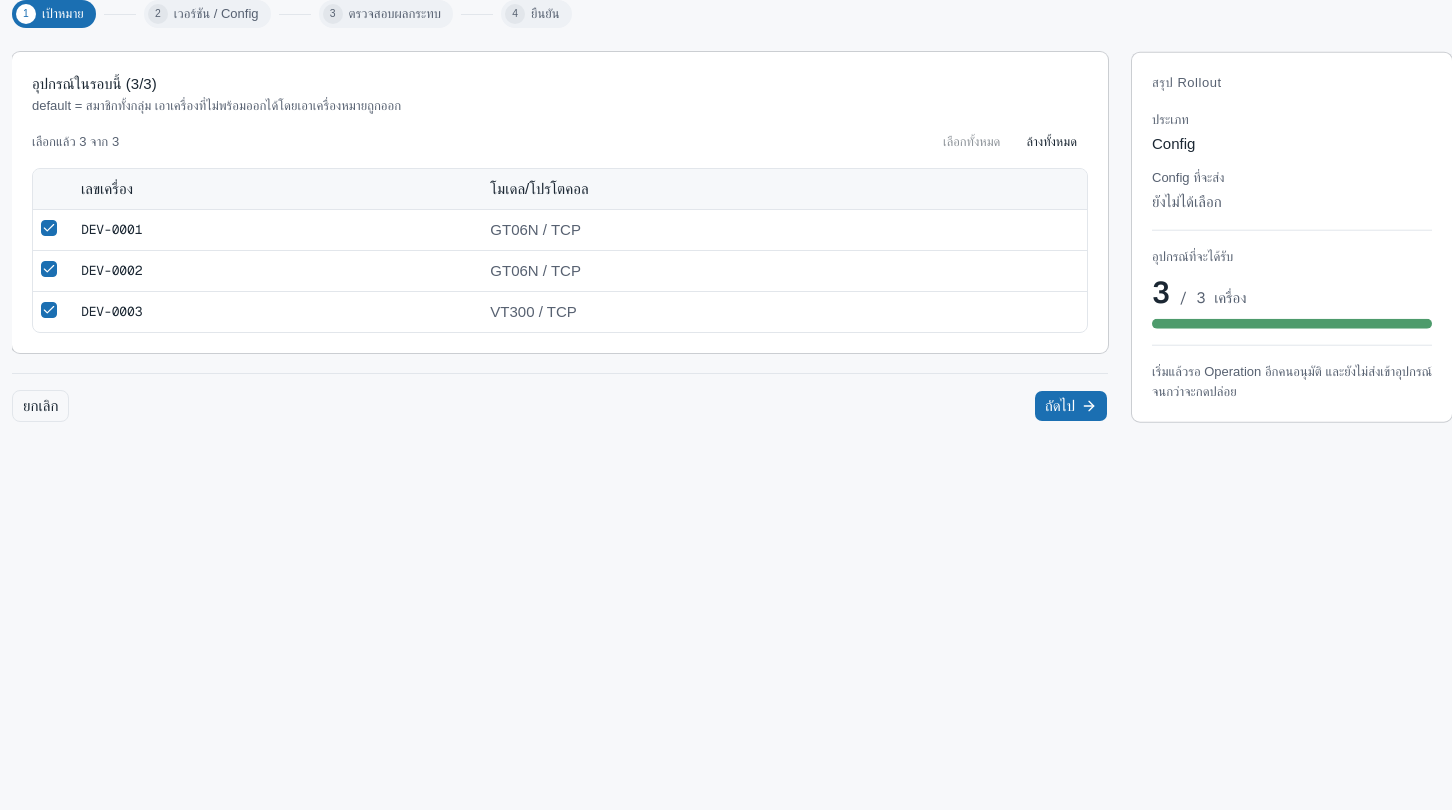
CampaignRolloutCreateForm: wizard 4 ขั้น › ขั้นตรวจสอบ: เครื่องคนละโมเดลถูกแสดงพร้อมเหตุผล และกดถัดไปไม่ได้
Click the button "ถัดไป" at coordinates (1071, 406), box [1034, 390, 1108, 422]
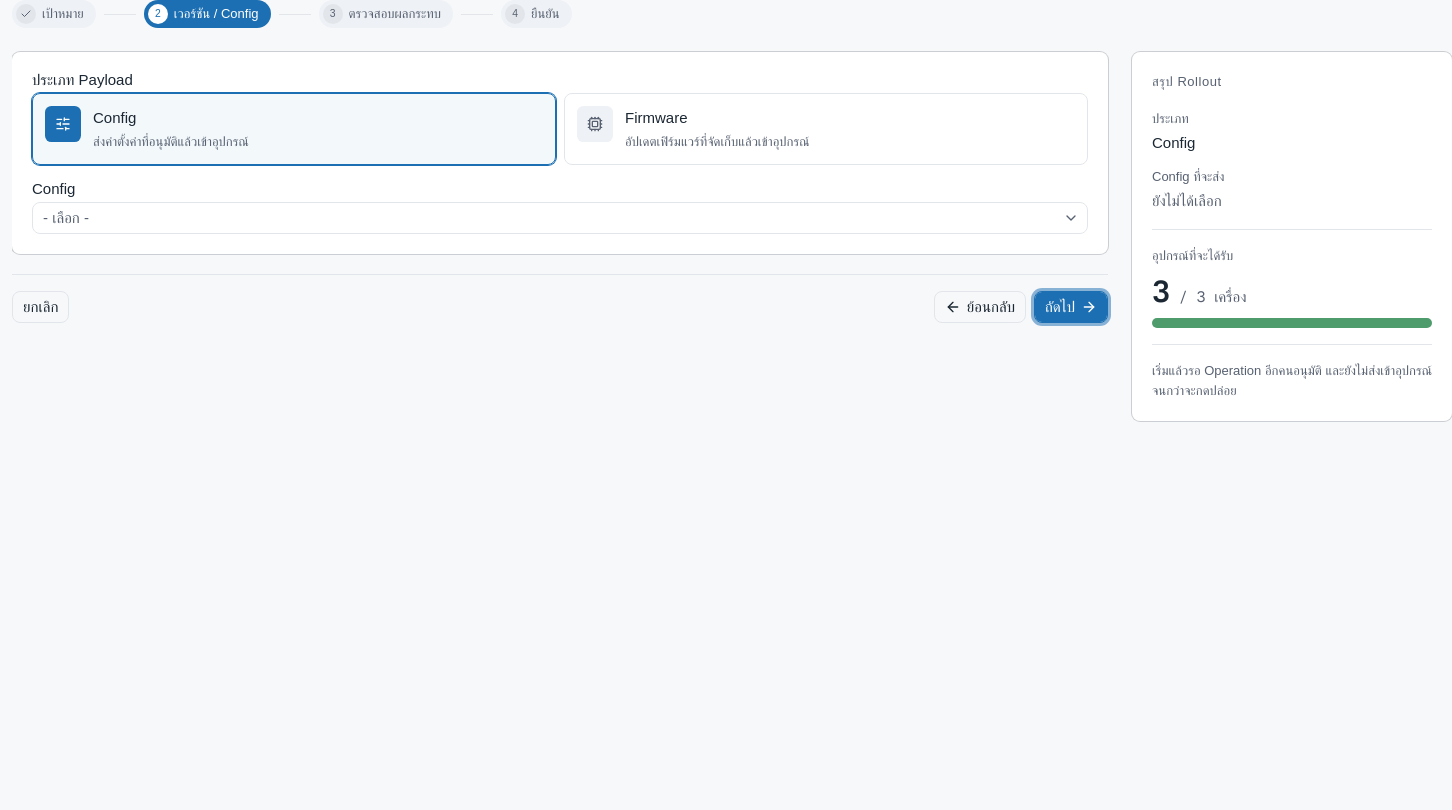
Click the dropdown named "Config" at coordinates (66, 218), box [32, 202, 1088, 234]
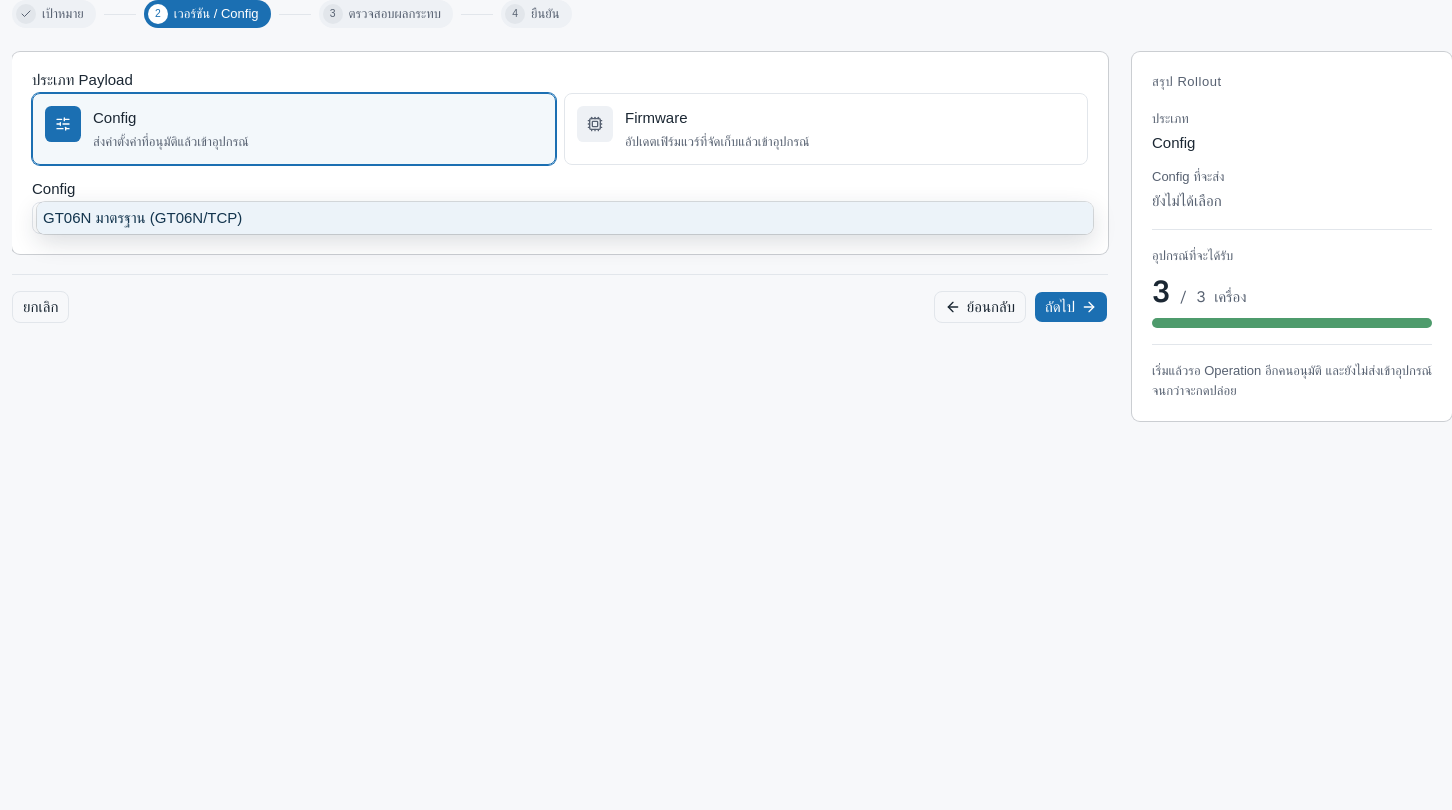
Click the option "GT06N มาตรฐาน (GT06N/TCP)" at coordinates (94, 218), box [37, 202, 1093, 234]
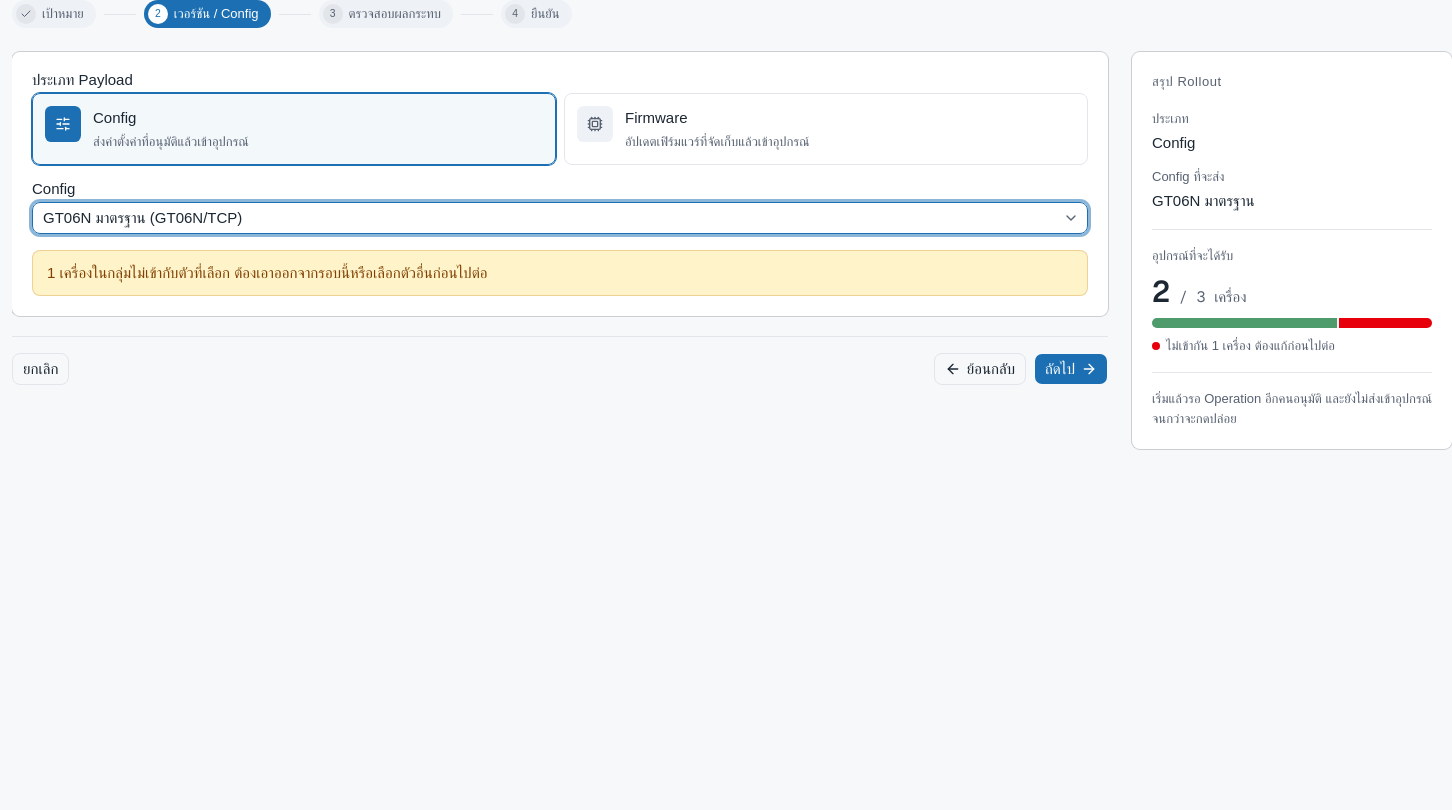
Click the button "ถัดไป" at coordinates (1071, 369), box [1034, 353, 1108, 385]
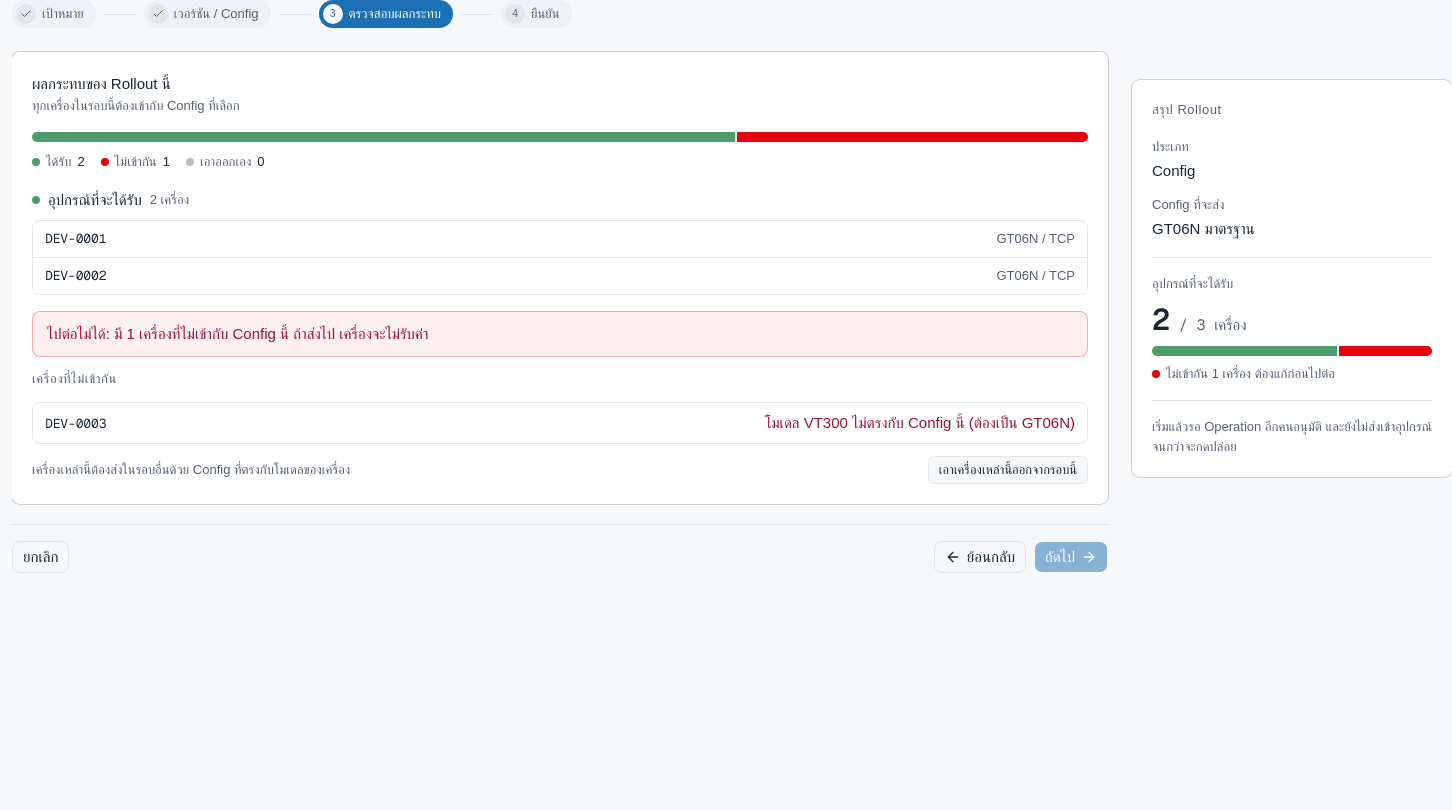
Now the text "โมเดล VT300 ไม่ตรงกับ Config นี้ (ต้องเป็น GT06N)" is shown, box [765, 411, 1075, 435]
Now the text "DEV-0003" is shown, box [45, 414, 106, 434]
Now the message shows "ไปต่อไม่ได้", box [47, 325, 126, 342]
